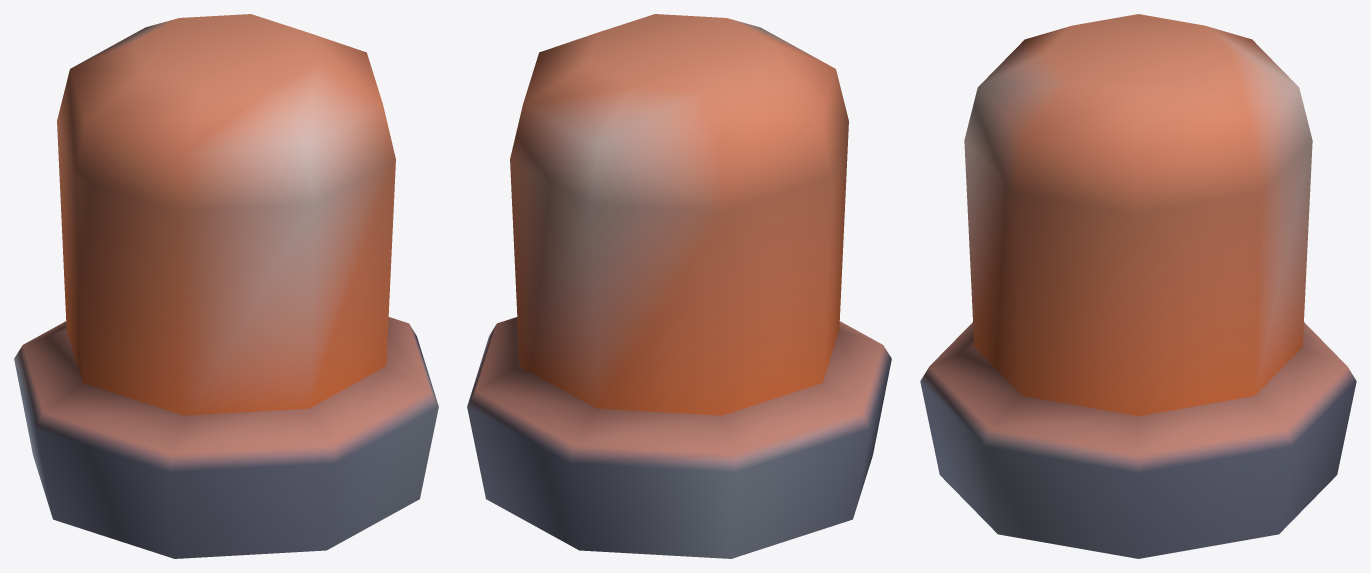
File: PartySubEmergencyLight.glb
The picture shows the model from 3 angles, left to right: view 1: azimuth 30°, elevation 25°; view 2: azimuth 150°, elevation 25°; view 3: azimuth 270°, elevation 25°; orthographic projection.
Visible parts, largest first — view 1: PartySubEmergencyLight; view 2: PartySubEmergencyLight; view 3: PartySubEmergencyLight.
Boxes of the visible parts, x1=… form: PartySubEmergencyLight: x1=14, y1=14, x2=438, y2=558; PartySubEmergencyLight: x1=467, y1=14, x2=891, y2=558; PartySubEmergencyLight: x1=920, y1=14, x2=1356, y2=558.
Bounding box in the file's own units: 0.6125 × 0.6524 × 0.6125.
